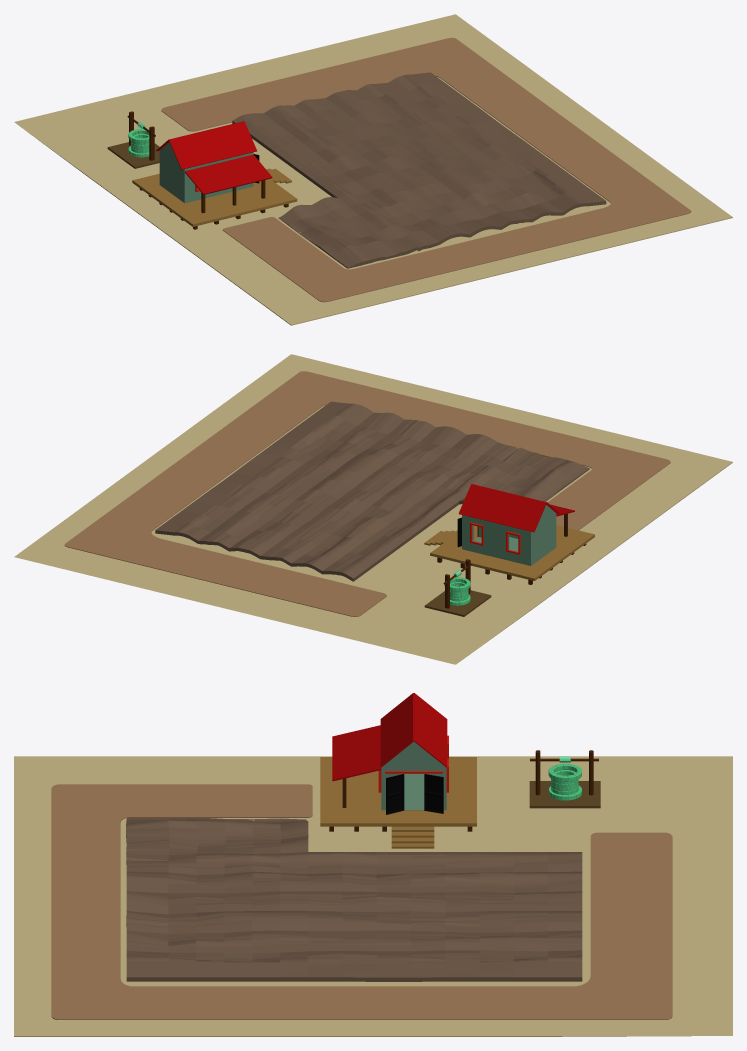
The model's file is farm.fbx.
3 views of the same model, one above another, from view 1: azimuth 30°, elevation 25°; view 2: azimuth 150°, elevation 25°; view 3: azimuth 270°, elevation 25° (orthographic). The views are drawn at different scales.
Parts seen in each view (by area): view 1: Plane.004, Plane.001, Plane.002, roof, Plane, Cube, well_stage, well; view 2: Plane.001, Plane.004, Plane.002, Cube, Plane, roof, well_stage, well; view 3: Plane.001, Plane.004, Plane.002, Plane, roof, Cube, door, well_stage, well, well_handle.
Boxes of the visible parts, box(x1,y1,x2,y2) form: Plane.004: box(232, 72, 606, 268); Plane.001: box(14, 14, 732, 325); Plane.002: box(161, 37, 691, 302); roof: box(156, 121, 272, 194); Plane: box(132, 168, 297, 226); Cube: box(159, 142, 253, 203); well_stage: box(107, 142, 159, 168); well: box(128, 129, 149, 157); Plane.001: box(14, 354, 732, 664); Plane.004: box(155, 401, 589, 581); Plane.002: box(64, 371, 670, 616); Cube: box(462, 505, 556, 565); Plane: box(424, 525, 594, 580); roof: box(458, 484, 574, 532); well_stage: box(424, 590, 491, 616); well: box(444, 577, 470, 605); Plane.001: box(14, 756, 732, 1036); Plane.004: box(126, 817, 582, 981); Plane.002: box(51, 784, 672, 1019); Plane: box(320, 757, 476, 848); roof: box(332, 693, 447, 781); Cube: box(381, 742, 446, 810); door: box(386, 774, 443, 814); well_stage: box(529, 781, 600, 808); well: box(548, 763, 581, 800); well_handle: box(530, 750, 598, 795).
Size of the model in its own units: 10526 by 1543 by 11444.
